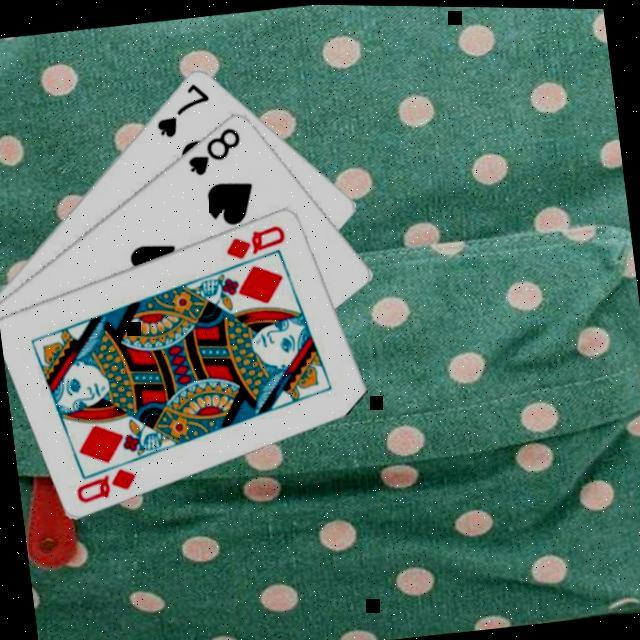7S: (145, 74, 214, 140)
8S: (178, 119, 245, 177)
QD: (68, 459, 140, 505), (218, 216, 288, 262)
